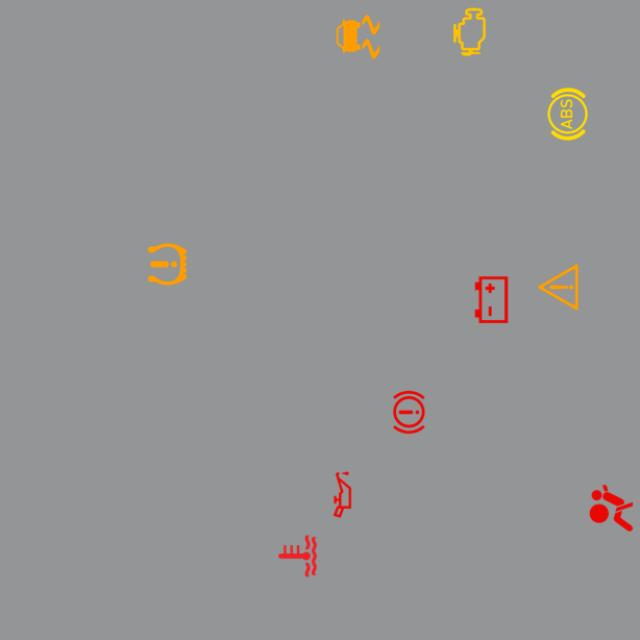Anti Lock Braking System: (539, 85, 596, 143)
Braking System Issue: (380, 383, 438, 441)
Charging System Issue: (463, 271, 520, 328)
Check Engine: (441, 3, 498, 61)
Electronic Stability Problem -ESP-: (329, 8, 387, 66)
Engine Overheating Warning Light: (269, 527, 326, 585)
Low Engine Oil Warning Light: (314, 466, 371, 523)
Low Tire Pressure Warning Light: (139, 235, 196, 293)
Master warning light: (529, 258, 587, 316)
SRS-Airbag: (582, 479, 640, 536)
